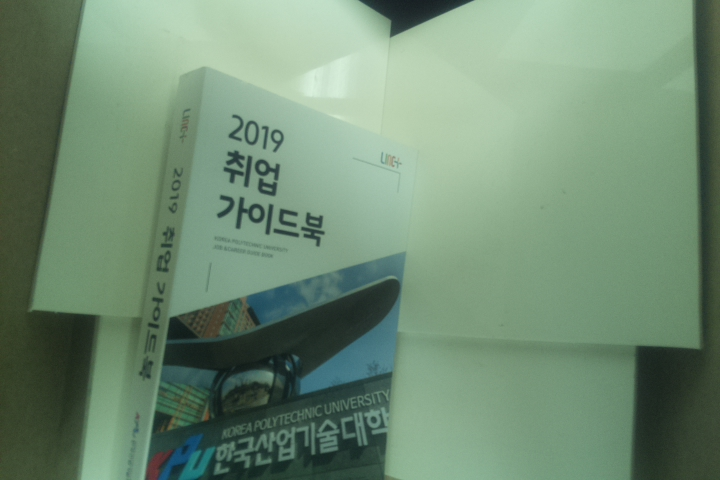book: (111, 65, 422, 480)
